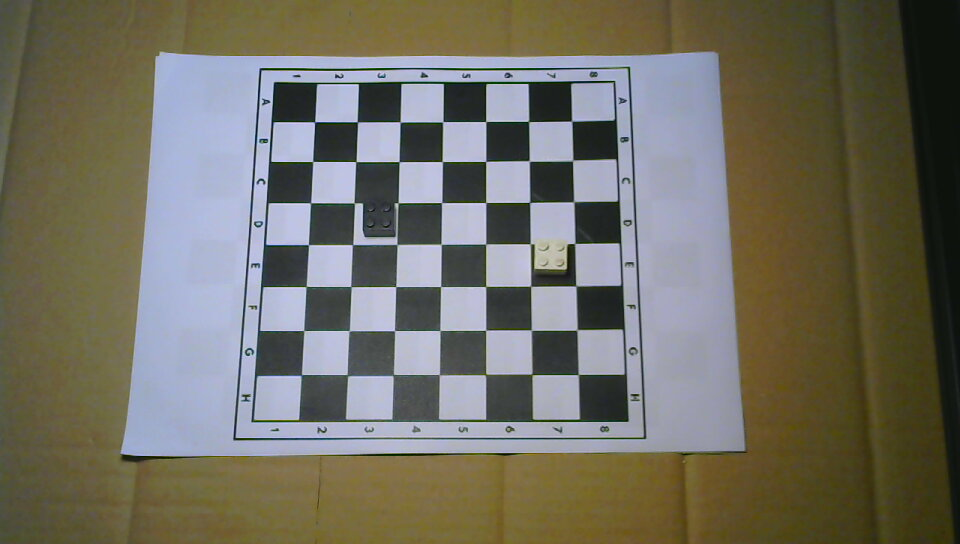bp: (361, 198, 398, 239)
wp: (532, 238, 569, 278)
